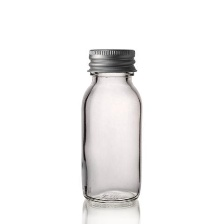bottle: (76, 41, 145, 207)
